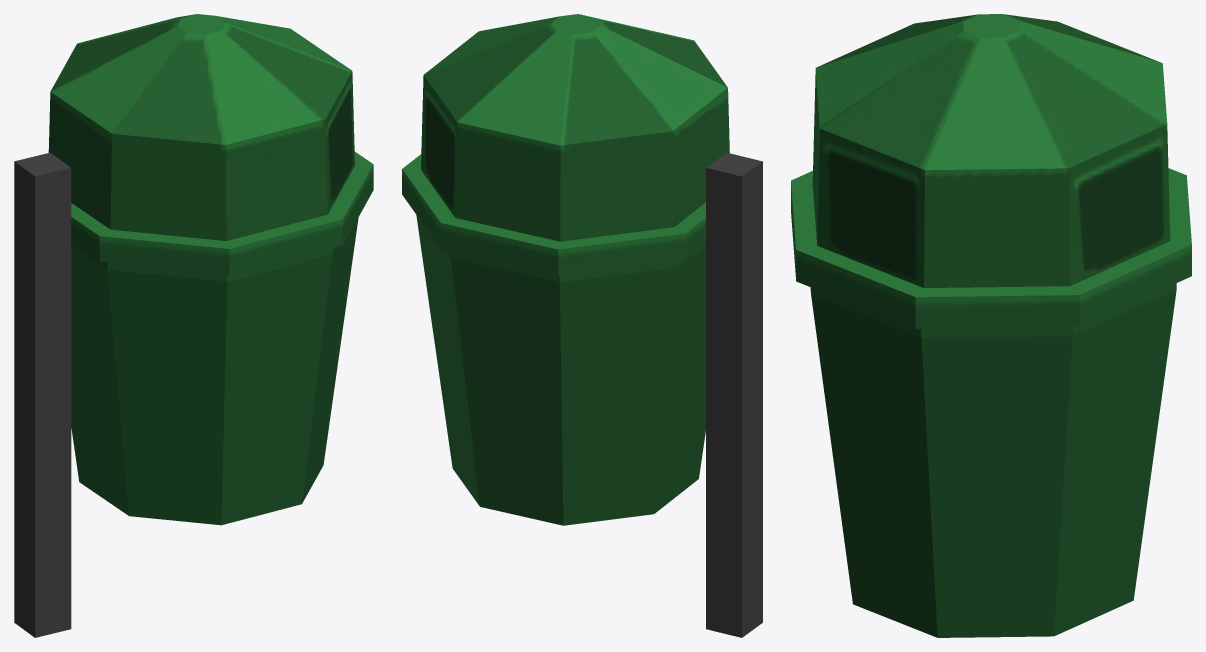
File: GreenBin.fbx
The picture shows the model from 3 angles, left to right: view 1: azimuth 30°, elevation 25°; view 2: azimuth 150°, elevation 25°; view 3: azimuth 270°, elevation 25°; orthographic projection. The views are drawn at different scales.
Visible parts, largest first — view 1: GreenBin2; view 2: GreenBin2; view 3: GreenBin2.
Boxes of the visible parts, box(x1,y1,x2,y2) form: GreenBin2: box(14, 14, 373, 637); GreenBin2: box(402, 14, 762, 637); GreenBin2: box(791, 14, 1191, 637).
Bounding box in the file's own units: 1.25 × 2.11 × 1.11.
